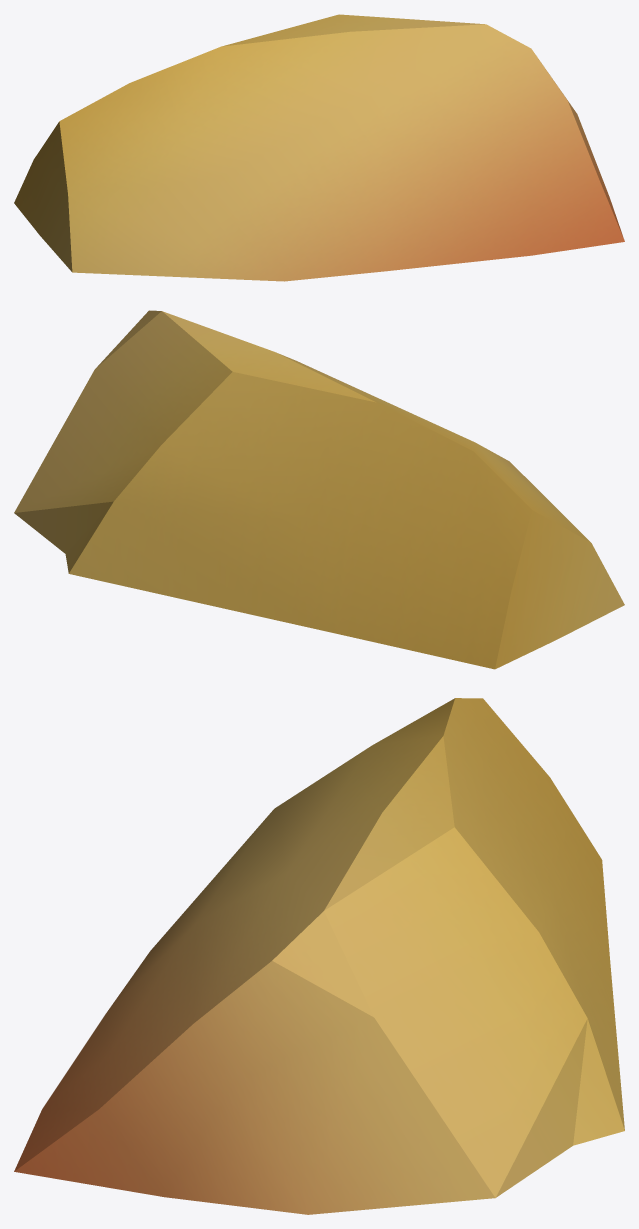
File: Canyon_Stone_007.FBX
3 renders of one model, top to bottom at view 1: azimuth 30°, elevation 25°; view 2: azimuth 150°, elevation 25°; view 3: azimuth 270°, elevation 25°, orthographic. The views are drawn at different scales.
Visible parts, largest first — view 1: Canyon_Stone_007; view 2: Canyon_Stone_007; view 3: Canyon_Stone_007.
Boxes of the visible parts, left/top/right/bottom form: Canyon_Stone_007: left=14, top=14, right=624, bottom=281; Canyon_Stone_007: left=14, top=310, right=624, bottom=669; Canyon_Stone_007: left=14, top=698, right=624, bottom=1214.
Size of the model in its own units: 230 by 69.74 by 158.
Materials: 1 (1 with a texture image).
